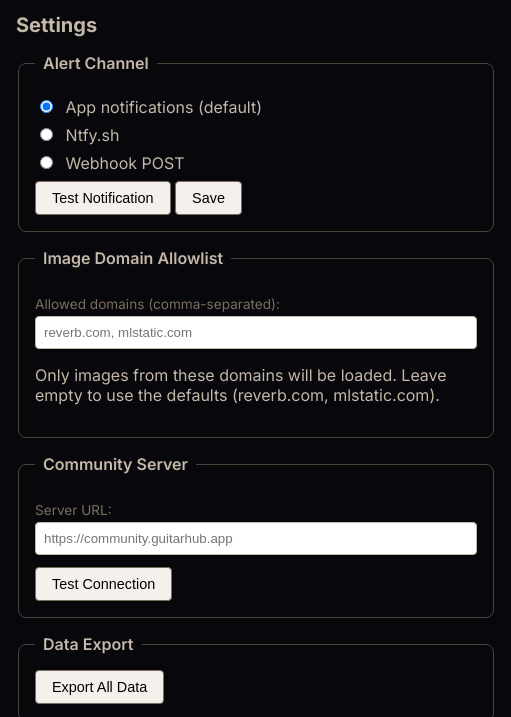
Test: Settings › save button is disabled while saving
Click the button "Save".
click(208, 198)  # box top-left (175, 181), bottom-right (242, 215)
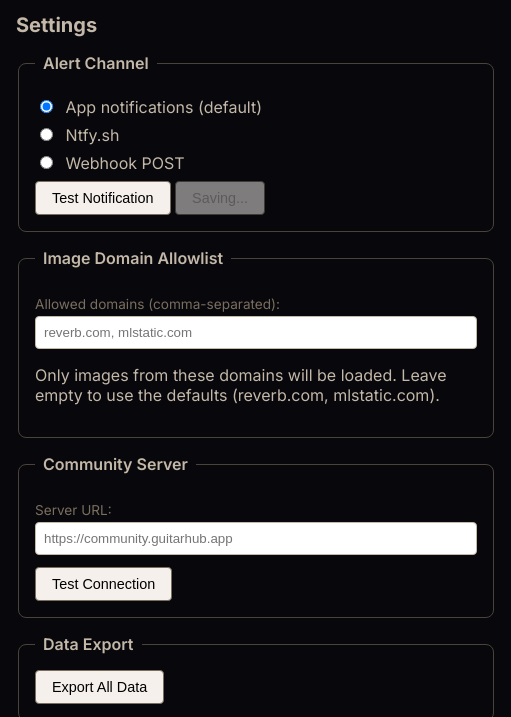
Now the button named "save" is disabled, box top-left (175, 181), bottom-right (265, 215)
